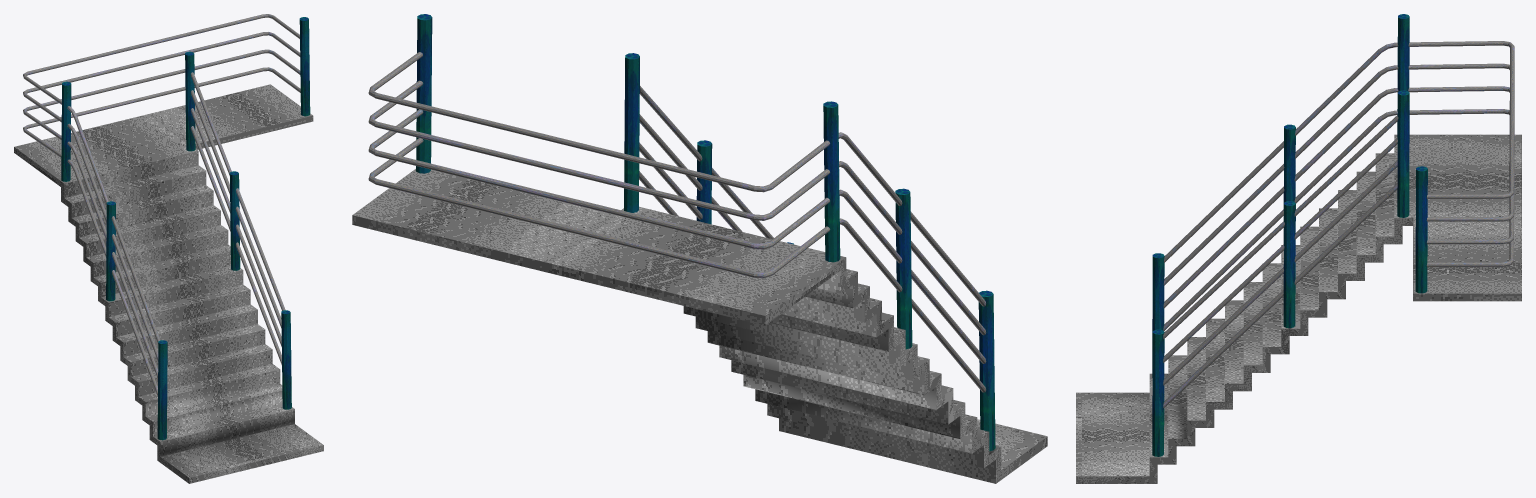
The model's file is FIRE_ESCAPE_AFTERJOINED.glb.
3 renders of one model, left to right at view 1: azimuth 30°, elevation 25°; view 2: azimuth 150°, elevation 25°; view 3: azimuth 270°, elevation 25°, orthographic. The views are drawn at different scales.
Visible parts, largest first — view 1: Revised_Better_Stairs; view 2: Revised_Better_Stairs; view 3: Revised_Better_Stairs.
Boxes of the visible parts, left/top/right/bottom form: Revised_Better_Stairs: left=14, top=14, right=323, bottom=483; Revised_Better_Stairs: left=352, top=14, right=1047, bottom=483; Revised_Better_Stairs: left=1076, top=14, right=1521, bottom=483.
Bounding box in the file's own units: 16.63 × 18.88 × 19.69.
3 materials, 3 textured.
